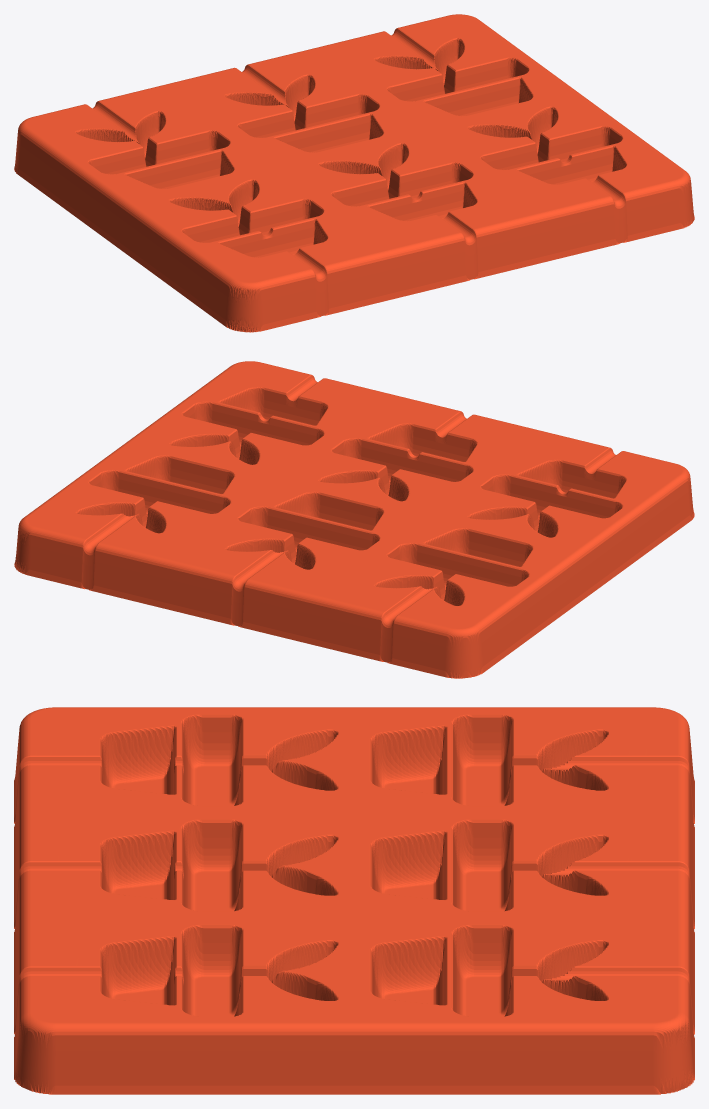
Rendered from mold.glb.
3 views of the same model, one above another, from view 1: azimuth 30°, elevation 25°; view 2: azimuth 150°, elevation 25°; view 3: azimuth 270°, elevation 25° (orthographic). The views are drawn at different scales.
Parts seen in each view (by area): view 1: geometry_0; view 2: geometry_0; view 3: geometry_0.
Part boxes in pixels (x1=…): geometry_0: x1=14, y1=14, x2=694, y2=332; geometry_0: x1=14, y1=361, x2=694, y2=678; geometry_0: x1=14, y1=707, x2=694, y2=1094.
Bounding box in the file's own units: 0.1686 × 0.0155 × 0.1477.
